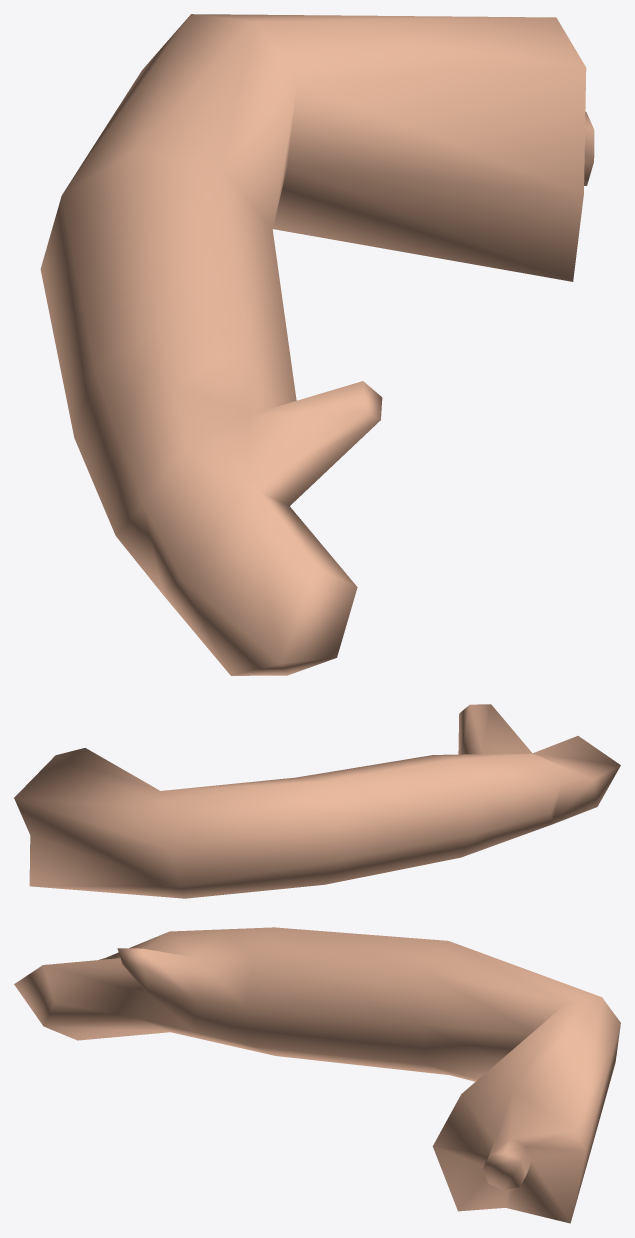
Rendered from Humain 3D Bras.fbx.
3 views of the same model, one above another, from view 1: azimuth 30°, elevation 25°; view 2: azimuth 150°, elevation 25°; view 3: azimuth 270°, elevation 25° (orthographic). The views are drawn at different scales.
Parts seen in each view (by area): view 1: Bras 3D.001; view 2: Bras 3D.001; view 3: Bras 3D.001.
Part boxes in pixels (left/top/right/bottom): Bras 3D.001: left=40, top=14, right=594, bottom=675; Bras 3D.001: left=14, top=704, right=620, bottom=898; Bras 3D.001: left=14, top=927, right=620, bottom=1223.
Bounding box in the file's own units: 64.33 × 20.57 × 76.69.
